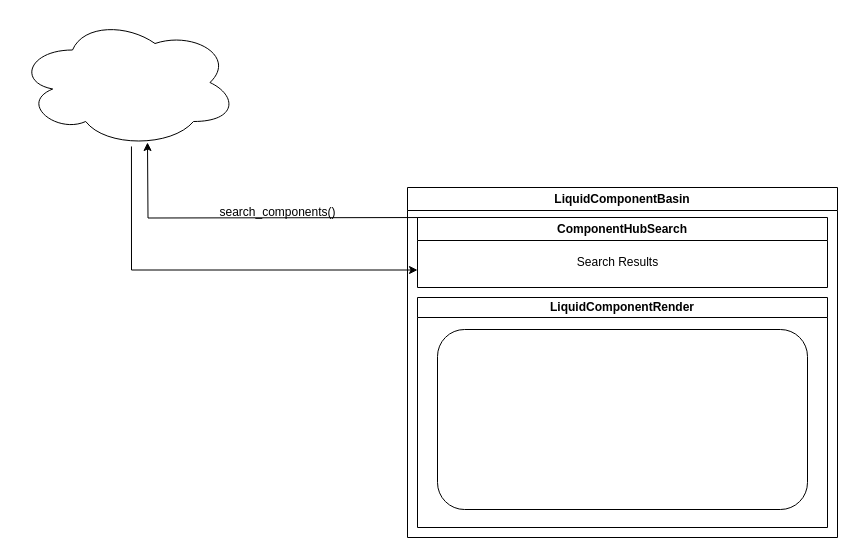
Some shapes in this 855 by 555 pixel diagram are drawn without their labels. Here are the shapes that lost their labels. From the top down, the centre of each, then its label:
the point at 127,82: ComponentHub
the point at 622,419: Actual WebComponent
